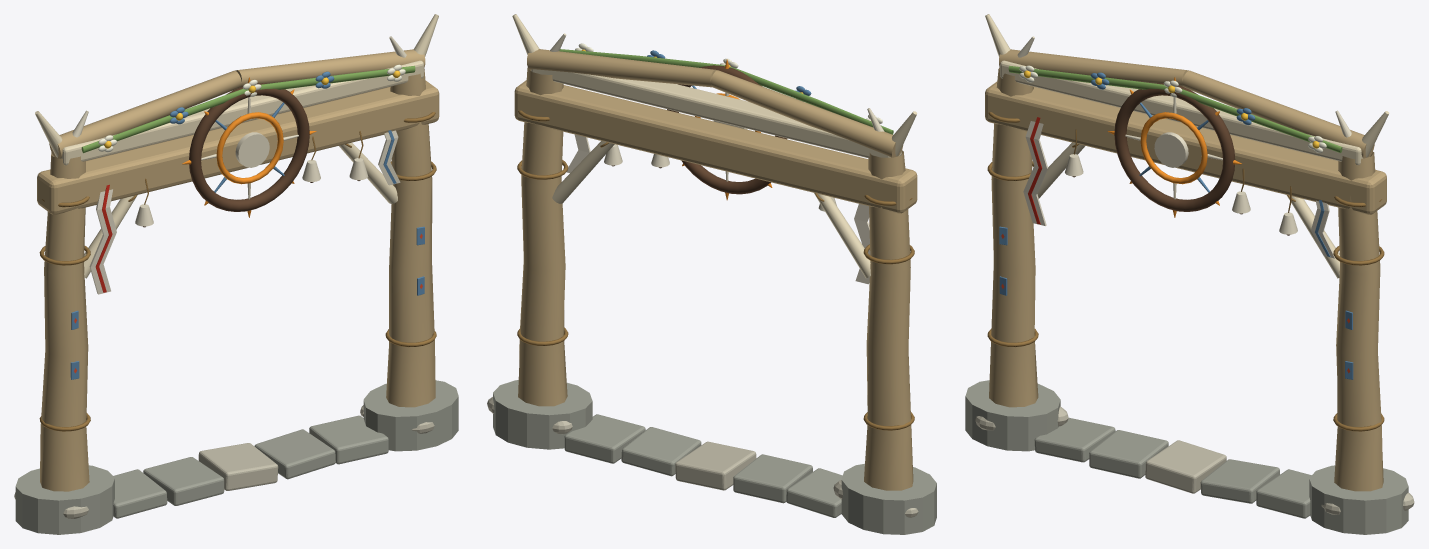
Rendered from ritual_gate.glb.
3 renders of one model, left to right at view 1: azimuth 30°, elevation 25°; view 2: azimuth 150°, elevation 25°; view 3: azimuth 330°, elevation 25°, orthographic.
Parts seen in each view (by area): view 1: ritual_gate; view 2: ritual_gate; view 3: ritual_gate.
Part boxes in pixels (<box>): ritual_gate: <box>14,14,458,534</box>; ritual_gate: <box>487,14,936,534</box>; ritual_gate: <box>965,14,1414,534</box>.
Bounding box in the file's own units: 6.14 × 5.54 × 1.03.
